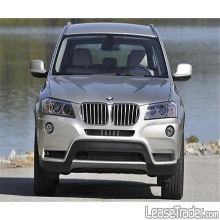no damage: (31, 22, 192, 200)
